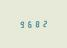eight: (32, 20, 38, 27)
nine: (18, 20, 24, 28)
six: (25, 20, 31, 28)
two: (39, 19, 45, 27)
